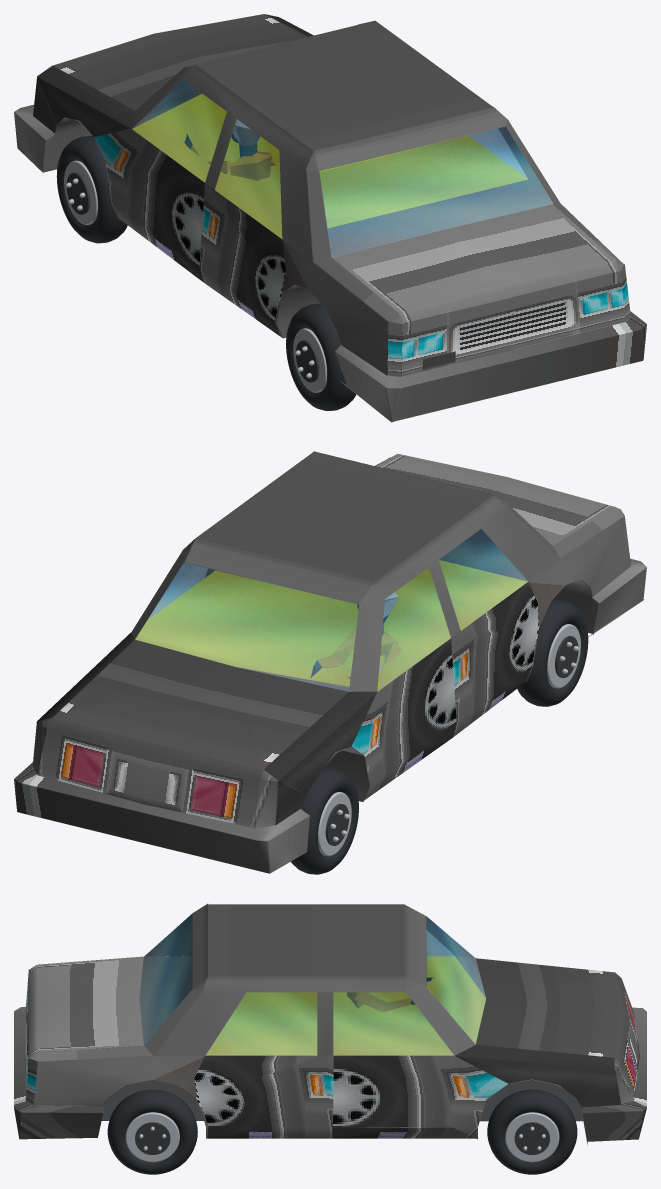
The model's file is car-sedanb.glb.
3 renders of one model, top to bottom at view 1: azimuth 30°, elevation 25°; view 2: azimuth 150°, elevation 25°; view 3: azimuth 270°, elevation 25°, orthographic. The views are drawn at different scales.
Parts seen in each view (by area): view 1: sedanBShape.001, sedanBShape.002, sedanBShape, Rounded tire.021, Rounded tire.022, Alloy rim.021, Alloy rim.022, Rim recess.042, Rim recess.044; view 2: sedanBShape.001, sedanBShape.002, sedanBShape, Rounded tire.021, Rounded tire.022, Alloy rim.021, Alloy rim.022, Rim recess.044, Rim recess.042; view 3: sedanBShape.001, sedanBShape.002, sedanBShape, Rounded tire.020, Rounded tire.023, Alloy rim.020, Alloy rim.023, Rim recess.041, Rim recess.047.
Part boxes in pixels (x1,y1,x2,y2): sedanBShape.001: [14, 14, 646, 422]; sedanBShape.002: [132, 79, 552, 257]; sedanBShape: [132, 94, 527, 238]; Rounded tire.021: [286, 303, 356, 410]; Rounded tire.022: [56, 136, 127, 243]; Alloy rim.021: [293, 328, 327, 392]; Alloy rim.022: [64, 160, 97, 224]; Rim recess.042: [296, 340, 319, 382]; Rim recess.044: [66, 172, 89, 214]; sedanBShape.001: [14, 451, 646, 873]; sedanBShape.002: [135, 515, 552, 691]; sedanBShape: [135, 560, 527, 691]; Rounded tire.021: [517, 599, 588, 706]; Rounded tire.022: [291, 767, 358, 874]; Alloy rim.021: [547, 624, 580, 688]; Alloy rim.022: [318, 792, 351, 856]; Rim recess.044: [325, 803, 348, 845]; Rim recess.042: [555, 636, 578, 678]; sedanBShape.001: [14, 903, 646, 1144]; sedanBShape.002: [139, 913, 485, 1055]; sedanBShape: [205, 956, 485, 1055]; Rounded tire.020: [107, 1089, 197, 1174]; Rounded tire.023: [487, 1089, 577, 1174]; Alloy rim.020: [125, 1112, 179, 1162]; Alloy rim.023: [505, 1112, 559, 1162]; Rim recess.041: [135, 1122, 170, 1154]; Rim recess.047: [514, 1122, 549, 1154].
Size of the model in its own units: 2.38 by 1.91 by 5.82.
Materials: 6 (3 with a texture image).
